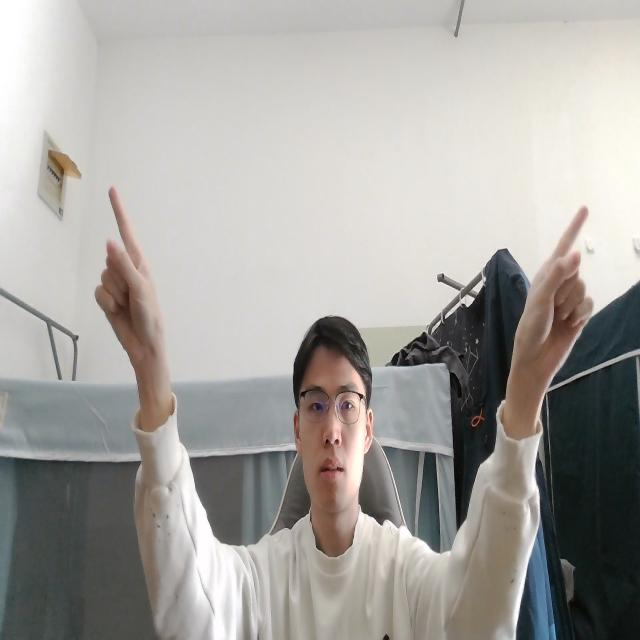one: (505, 195, 596, 413), (94, 182, 170, 400)
